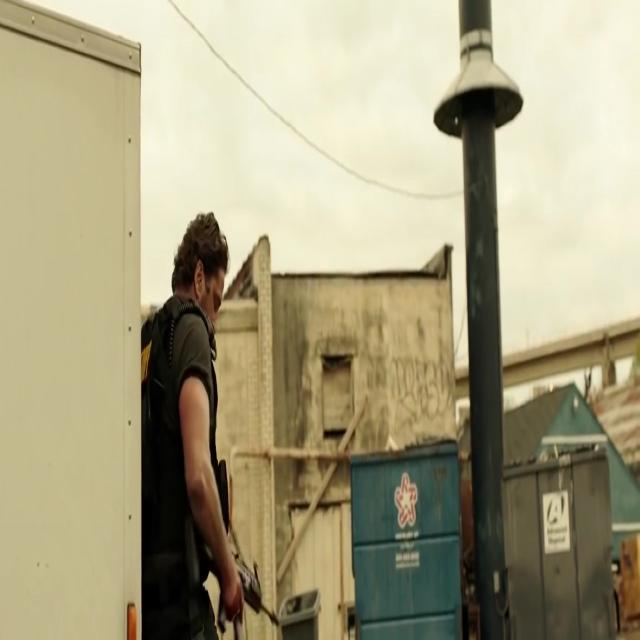Weapon: (235, 507, 304, 640)
